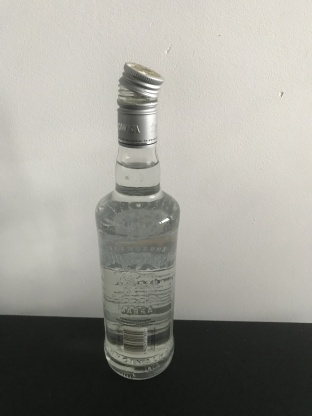nakretka: (115, 58, 164, 149)
